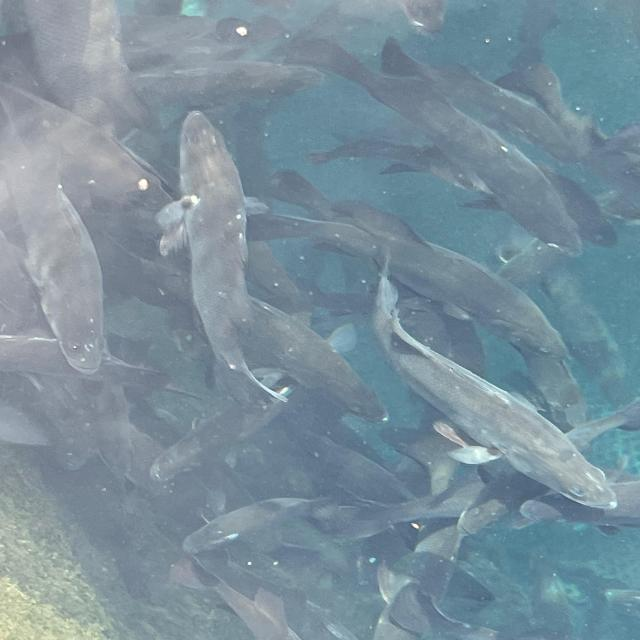ikan: (277, 34, 591, 257), (362, 251, 620, 511), (248, 168, 574, 370), (154, 108, 289, 410)
